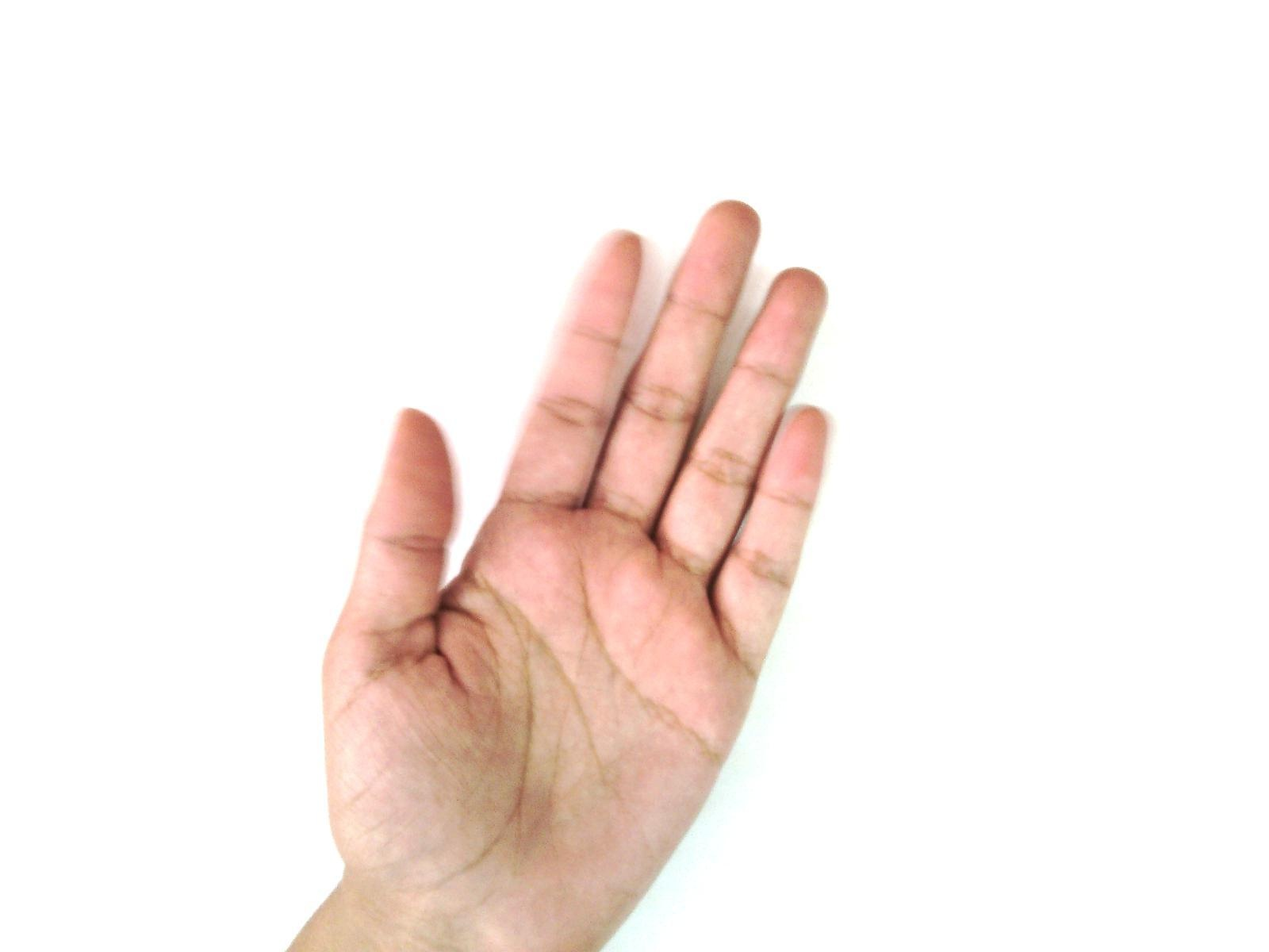open_palm: (288, 199, 837, 951)
